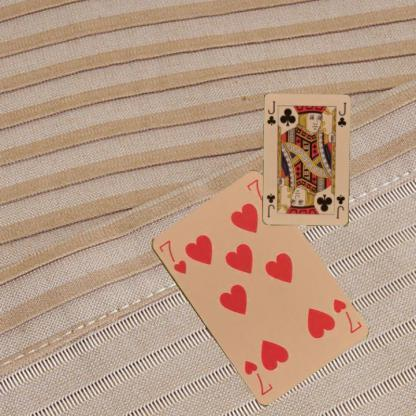7h: (155, 237, 188, 275), (330, 296, 363, 334)
Jc: (334, 192, 346, 221), (264, 98, 276, 127)
